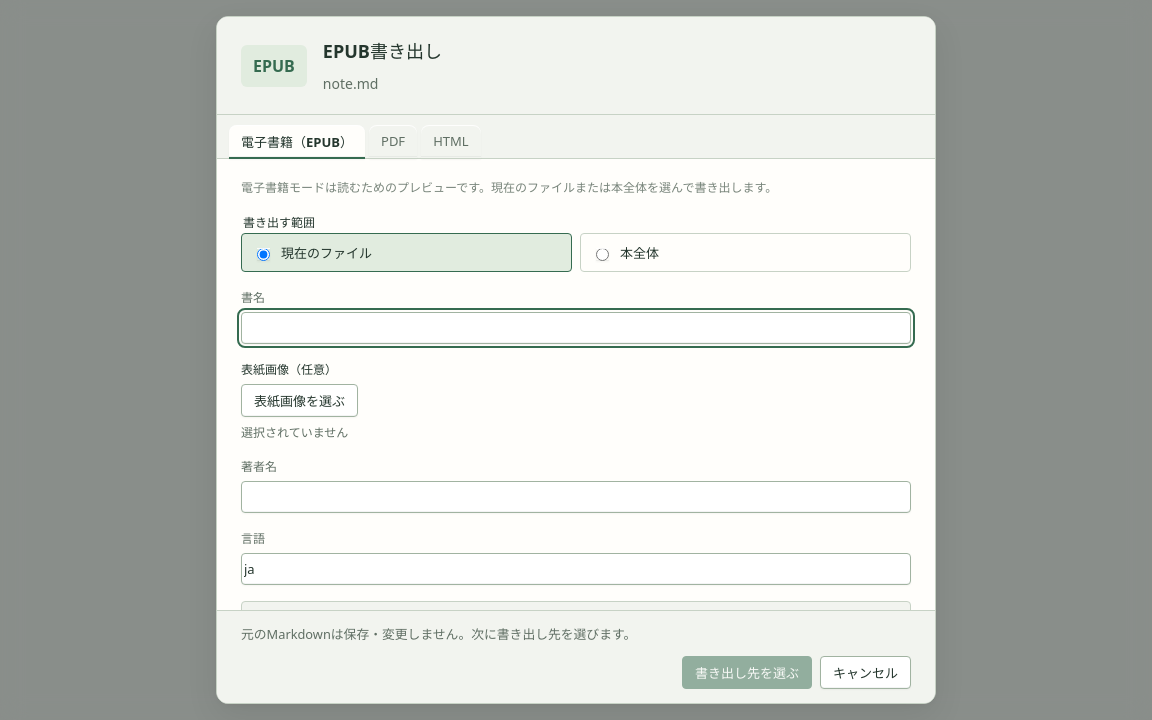
Test: export format round trip (画面11) › keeps the PDF margin preset on the way back
Click the button "PDF" at (393, 142), box [369, 125, 417, 159]
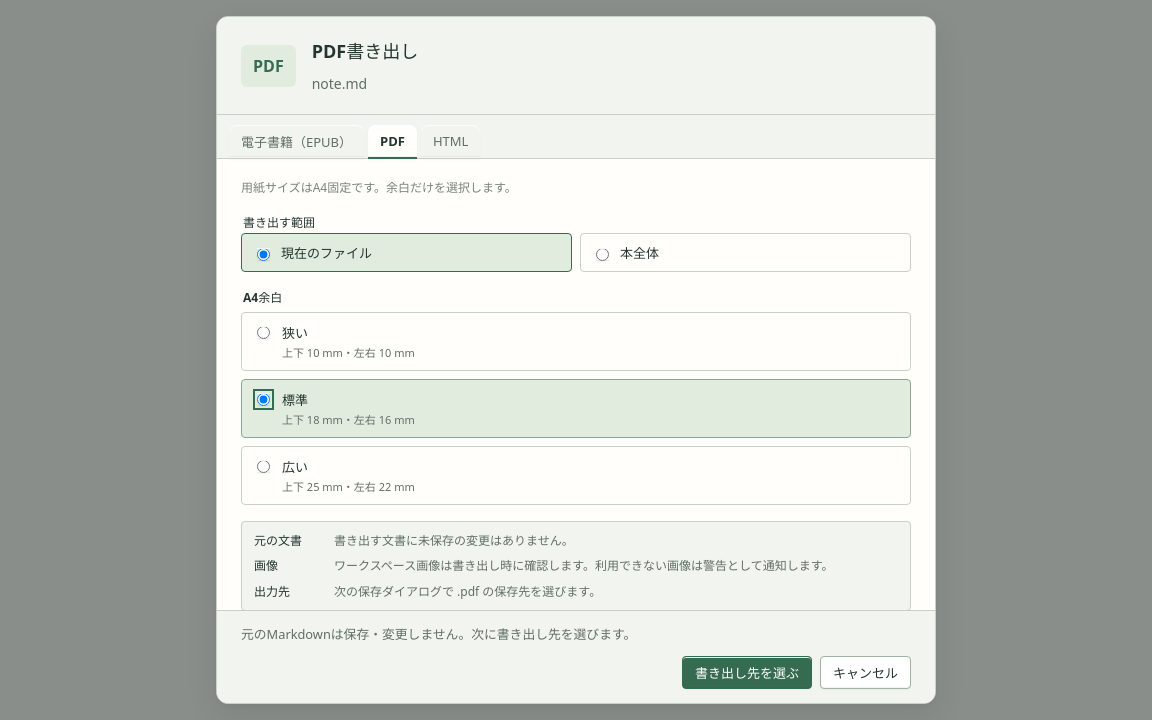
Click the radio button labelled "広い 上下 25 mm・左右 22 mm" at (264, 466), box [257, 460, 270, 473]
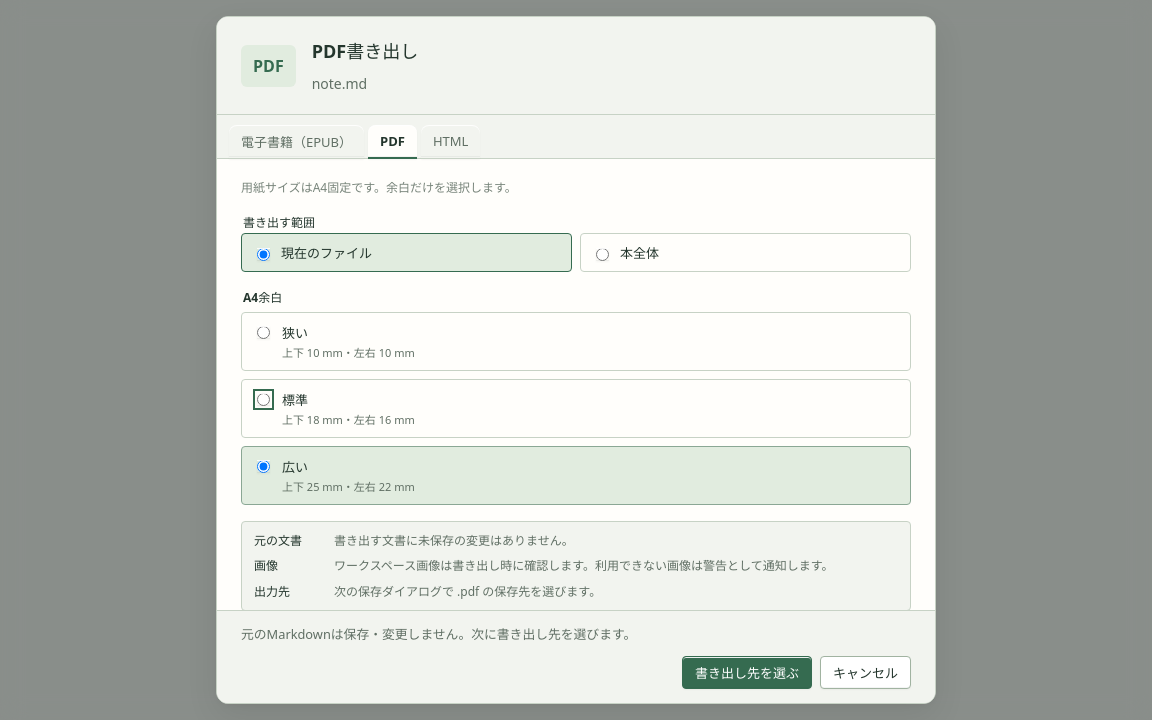
Click the button "電子書籍（EPUB）" at (296, 142), box [229, 125, 364, 159]
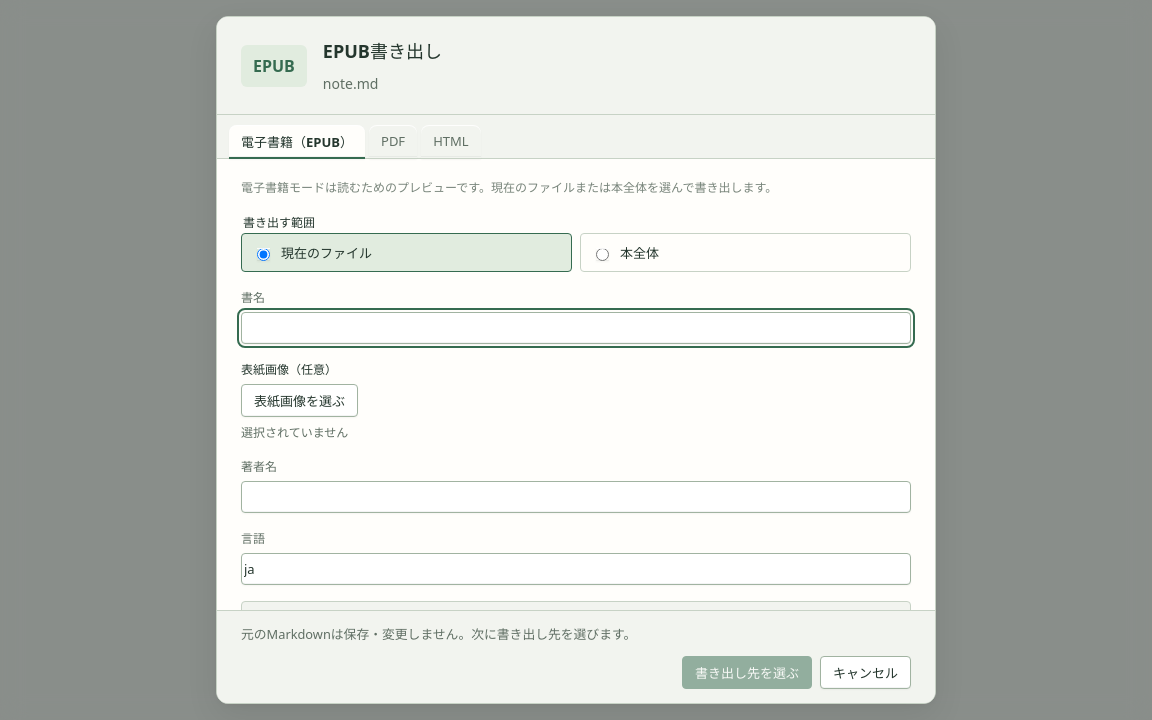
Click the button "PDF" at (393, 142), box [369, 125, 417, 159]
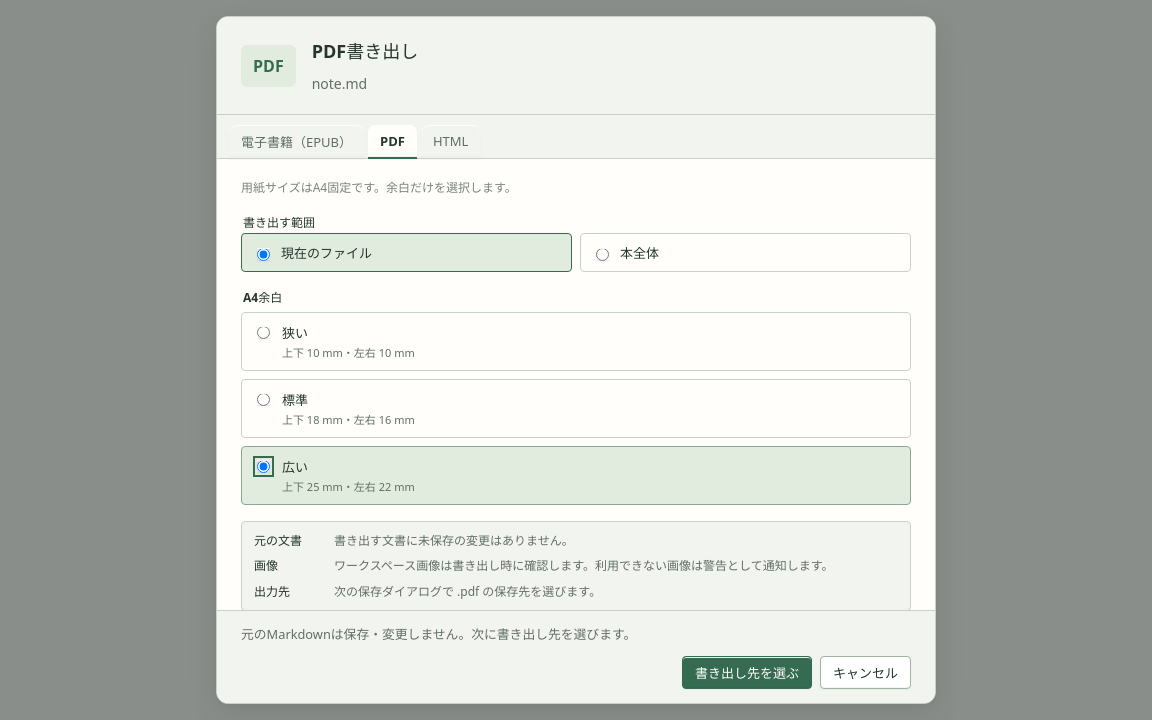
Check: the radio button labelled "広い 上下 25 mm・左右 22 mm" is checked, box [257, 460, 270, 473]
